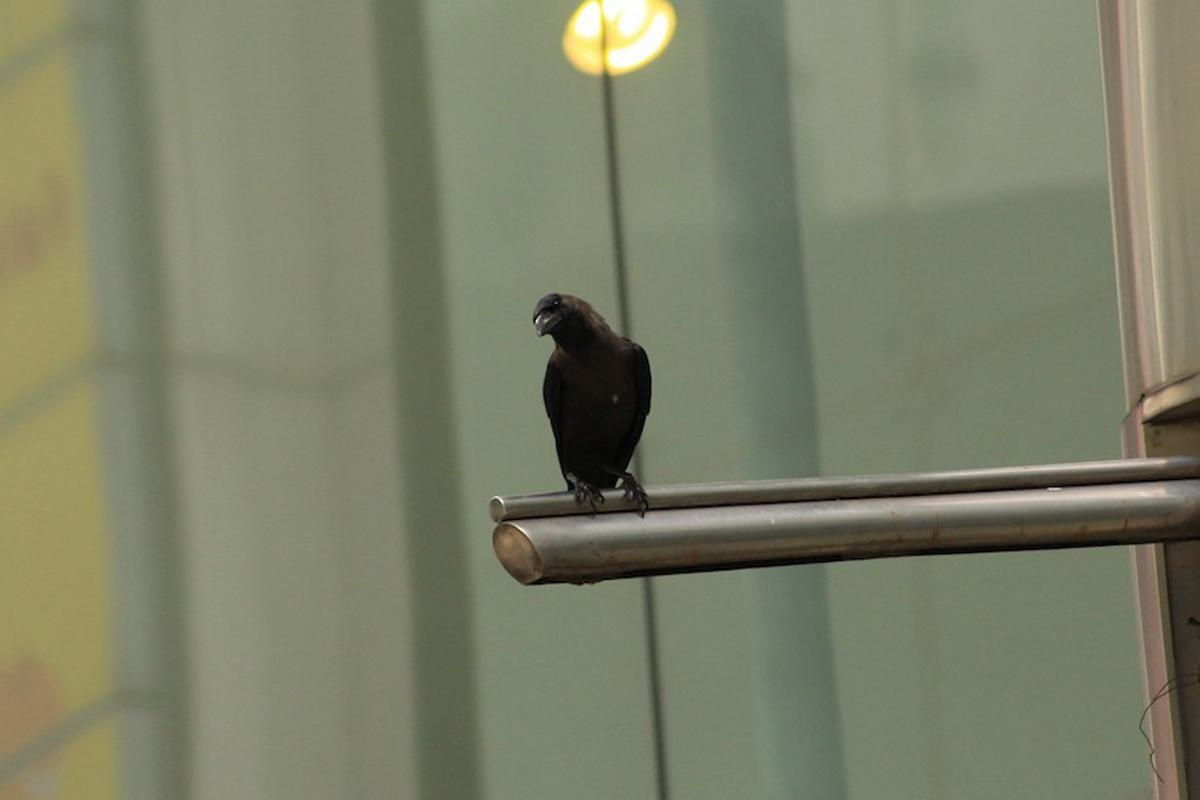crow: (536, 279, 670, 524)
